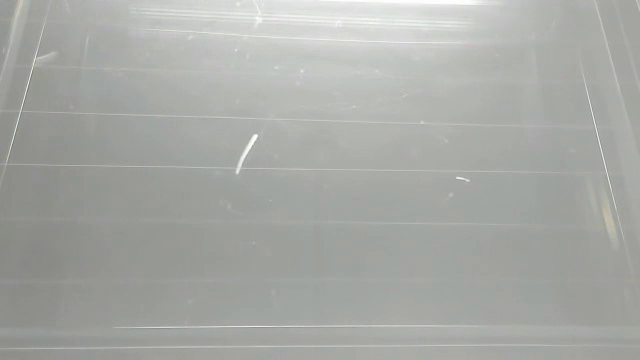alpha: (230, 129, 262, 177), (453, 173, 473, 185)
